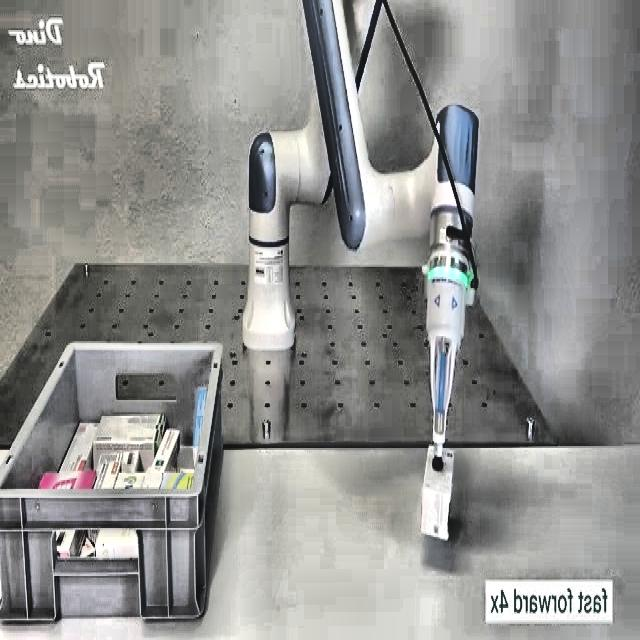robot: (242, 0, 481, 539)
